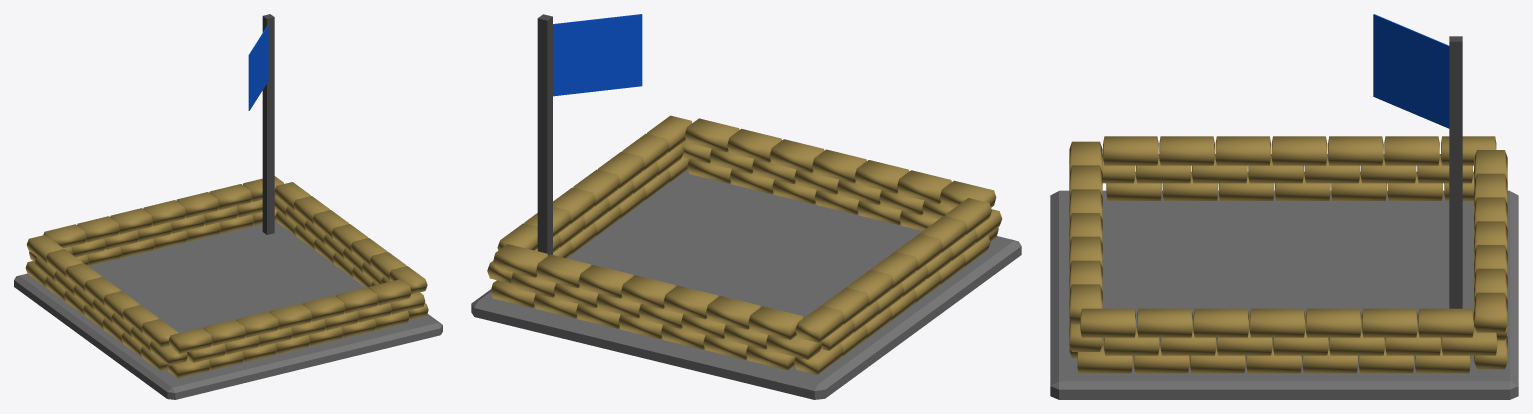
The model's file is ControlPoint_2.fbx.
3 renders of one model, left to right at view 1: azimuth 30°, elevation 25°; view 2: azimuth 150°, elevation 25°; view 3: azimuth 270°, elevation 25°, orthographic. The views are drawn at different scales.
Visible parts, largest first — view 1: Sandbags, Ground, FlagStick, Flag; view 2: Sandbags, Ground, Flag, FlagStick; view 3: Sandbags, Ground, Flag, FlagStick.
Boxes of the visible parts, x1,y1,x2,y2 form: Sandbags: (25, 176, 428, 378); Ground: (14, 220, 442, 399); FlagStick: (262, 14, 274, 234); Flag: (248, 25, 268, 110); Sandbags: (487, 115, 1002, 374); Ground: (471, 170, 1021, 399); Flag: (553, 14, 642, 96); FlagStick: (537, 14, 552, 255); Sandbags: (1069, 136, 1507, 373); Ground: (1050, 190, 1518, 399); Flag: (1373, 14, 1449, 128); FlagStick: (1449, 36, 1462, 308).
Size of the model in its own units: 400 by 313 by 400.
